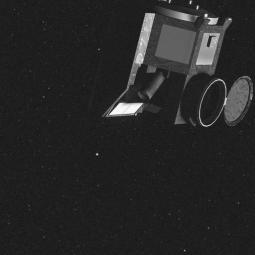cheops: (98, 0, 255, 141)
